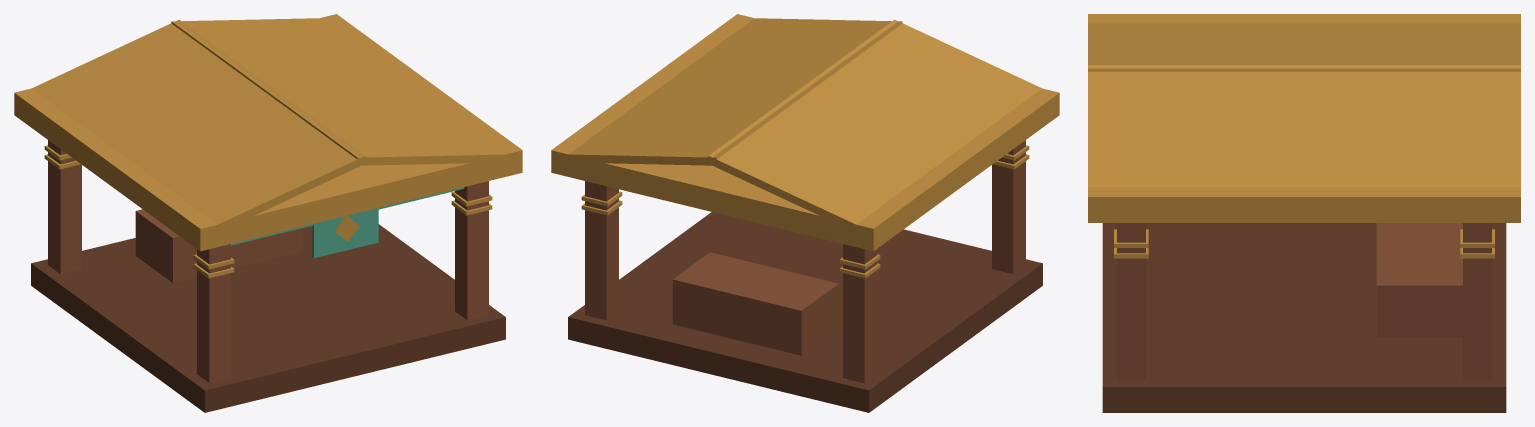
The model's file is theme_orc.glb.
3 renders of one model, left to right at view 1: azimuth 30°, elevation 25°; view 2: azimuth 150°, elevation 25°; view 3: azimuth 270°, elevation 25°, orthographic. The views are drawn at different scales.
Parts seen in each view (by area): view 1: theme_orc; view 2: theme_orc; view 3: theme_orc.
Boxes of the visible parts, x1,y1,x2,y2 form: theme_orc: (14,14,522,412); theme_orc: (551,14,1059,412); theme_orc: (1088,14,1520,412).
Bounding box in the file's own units: 15 × 9.96 × 15.
